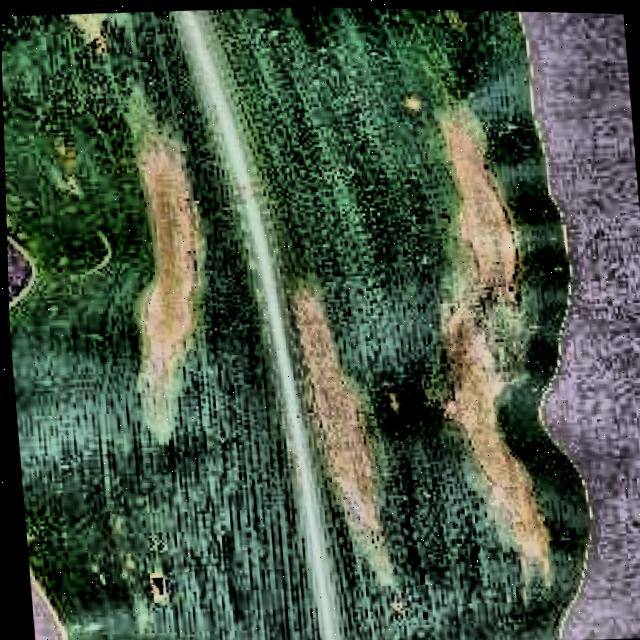blight: (16, 0, 603, 640)
